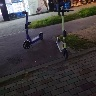beam: (20, 9, 44, 50)
gcooter: (52, 8, 75, 61)
